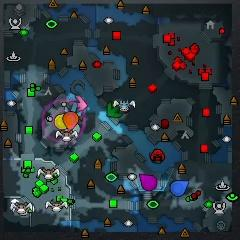p1: (170, 180, 189, 196)
p2: (73, 124, 81, 134)
p3: (139, 174, 157, 191)
p4: (55, 114, 66, 130)
p5: (63, 111, 78, 131)
x1: (70, 95, 87, 112)
x3: (65, 103, 82, 117)
x4: (106, 101, 122, 118)
